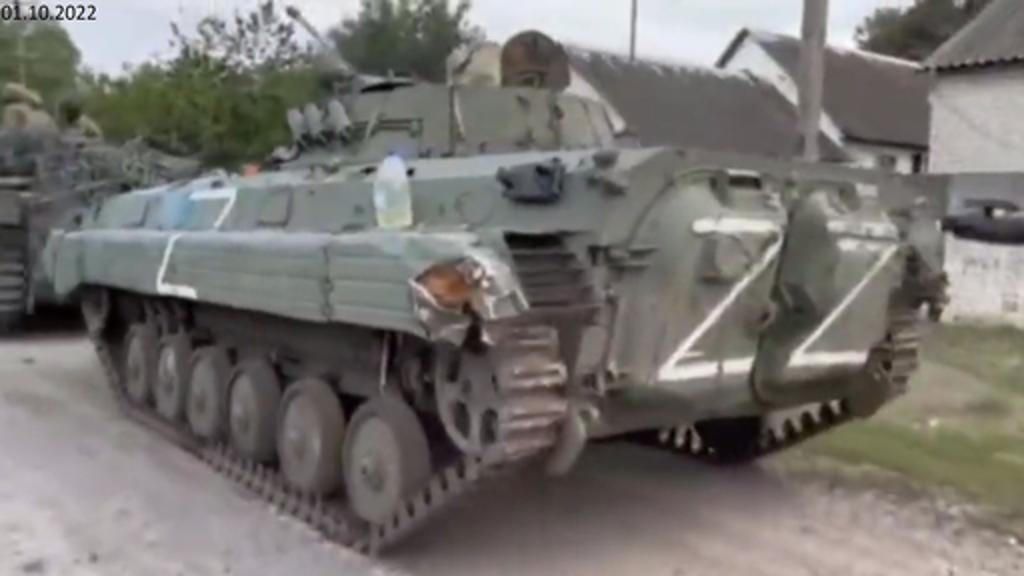APC-IFV: (64, 60, 948, 556)
